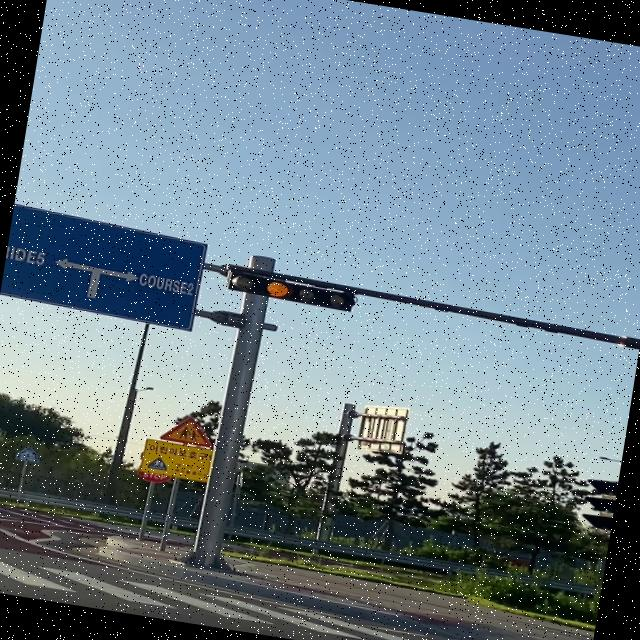yellow_light: (226, 271, 354, 312)
